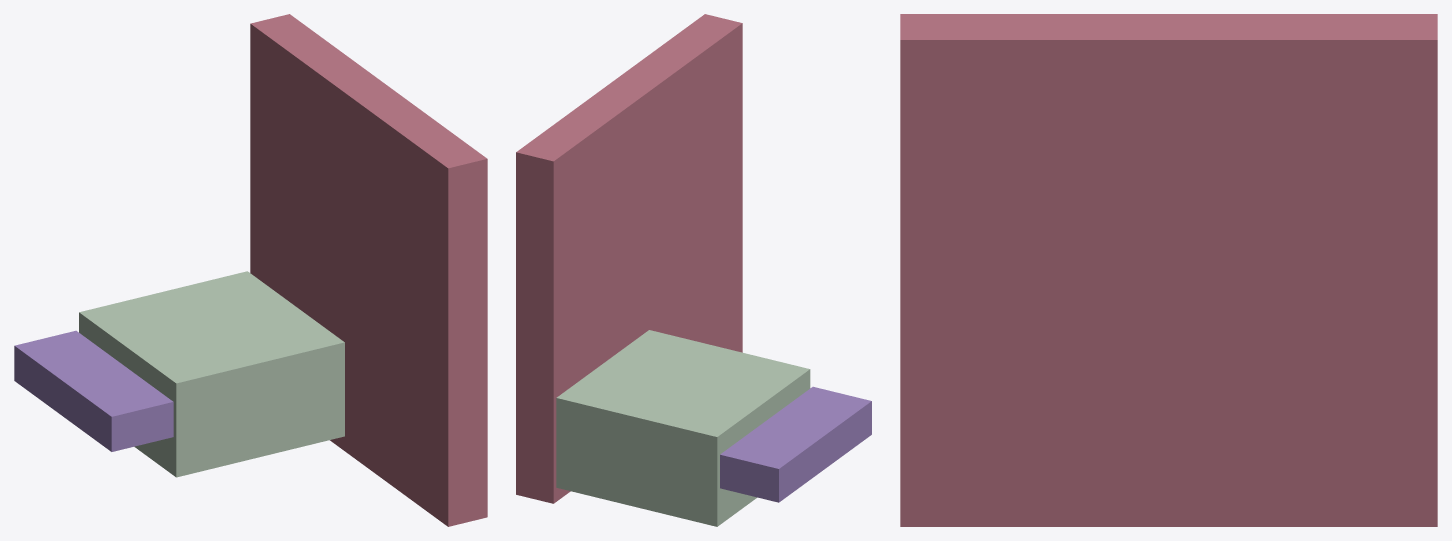
3 renders of one model, left to right at view 1: azimuth 30°, elevation 25°; view 2: azimuth 150°, elevation 25°; view 3: azimuth 270°, elevation 25°, orthographic. The views are drawn at different scales.
Visible parts, largest first — view 1: world; view 2: world; view 3: world.
Boxes of the visible parts, x1=… form: world: x1=14, y1=14, x2=487, y2=526; world: x1=516, y1=14, x2=871, y2=526; world: x1=900, y1=14, x2=1437, y2=526.
Bounding box in the file's own units: 4.9 × 6.1 × 6.1.
